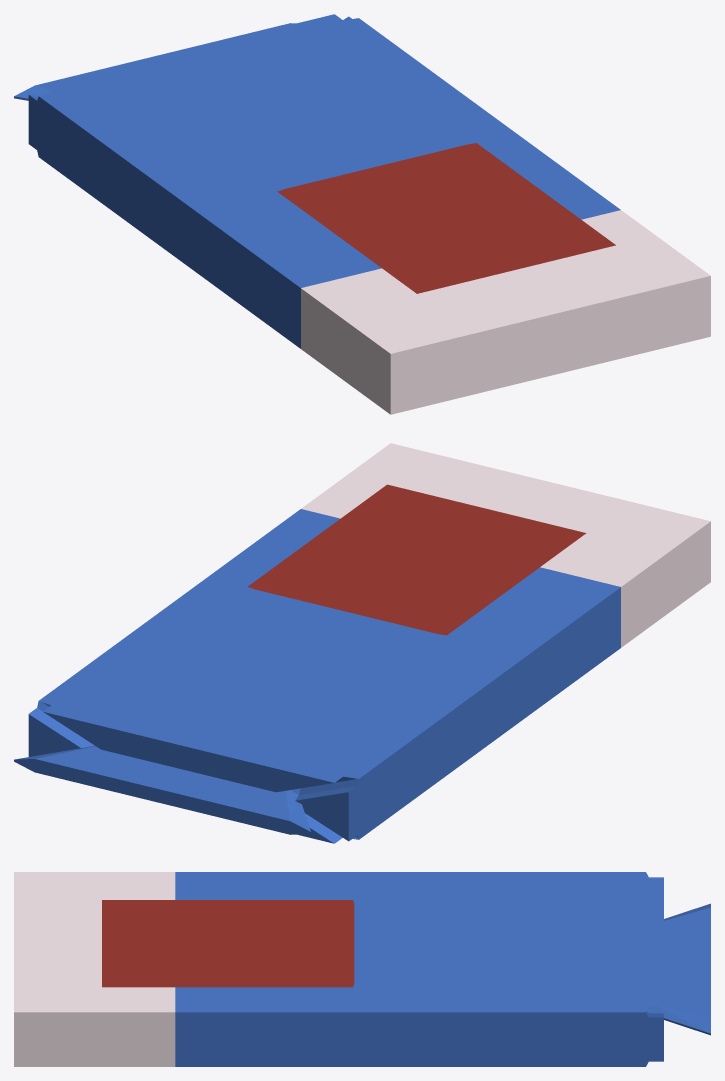
Rendered from SM_chocolate_04.fbx.
The picture shows the model from 3 angles, top to bottom: view 1: azimuth 30°, elevation 25°; view 2: azimuth 150°, elevation 25°; view 3: azimuth 270°, elevation 25°; orthographic projection. The views are drawn at different scales.
Visible parts, largest first — view 1: chocolate_04; view 2: chocolate_04; view 3: chocolate_04.
Boxes of the visible parts, x1,y1,x2,y2 form: chocolate_04: [14, 14, 710, 414]; chocolate_04: [14, 443, 710, 843]; chocolate_04: [14, 872, 710, 1066].
Bounding box in the file's own units: 21.99 × 4.37 × 46.18.
